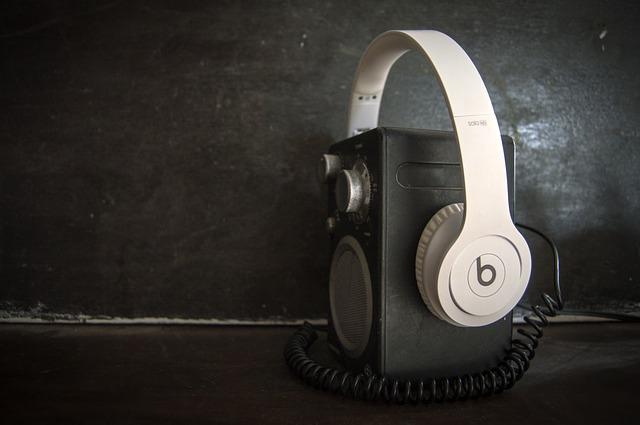headphones: (347, 31, 532, 328)
